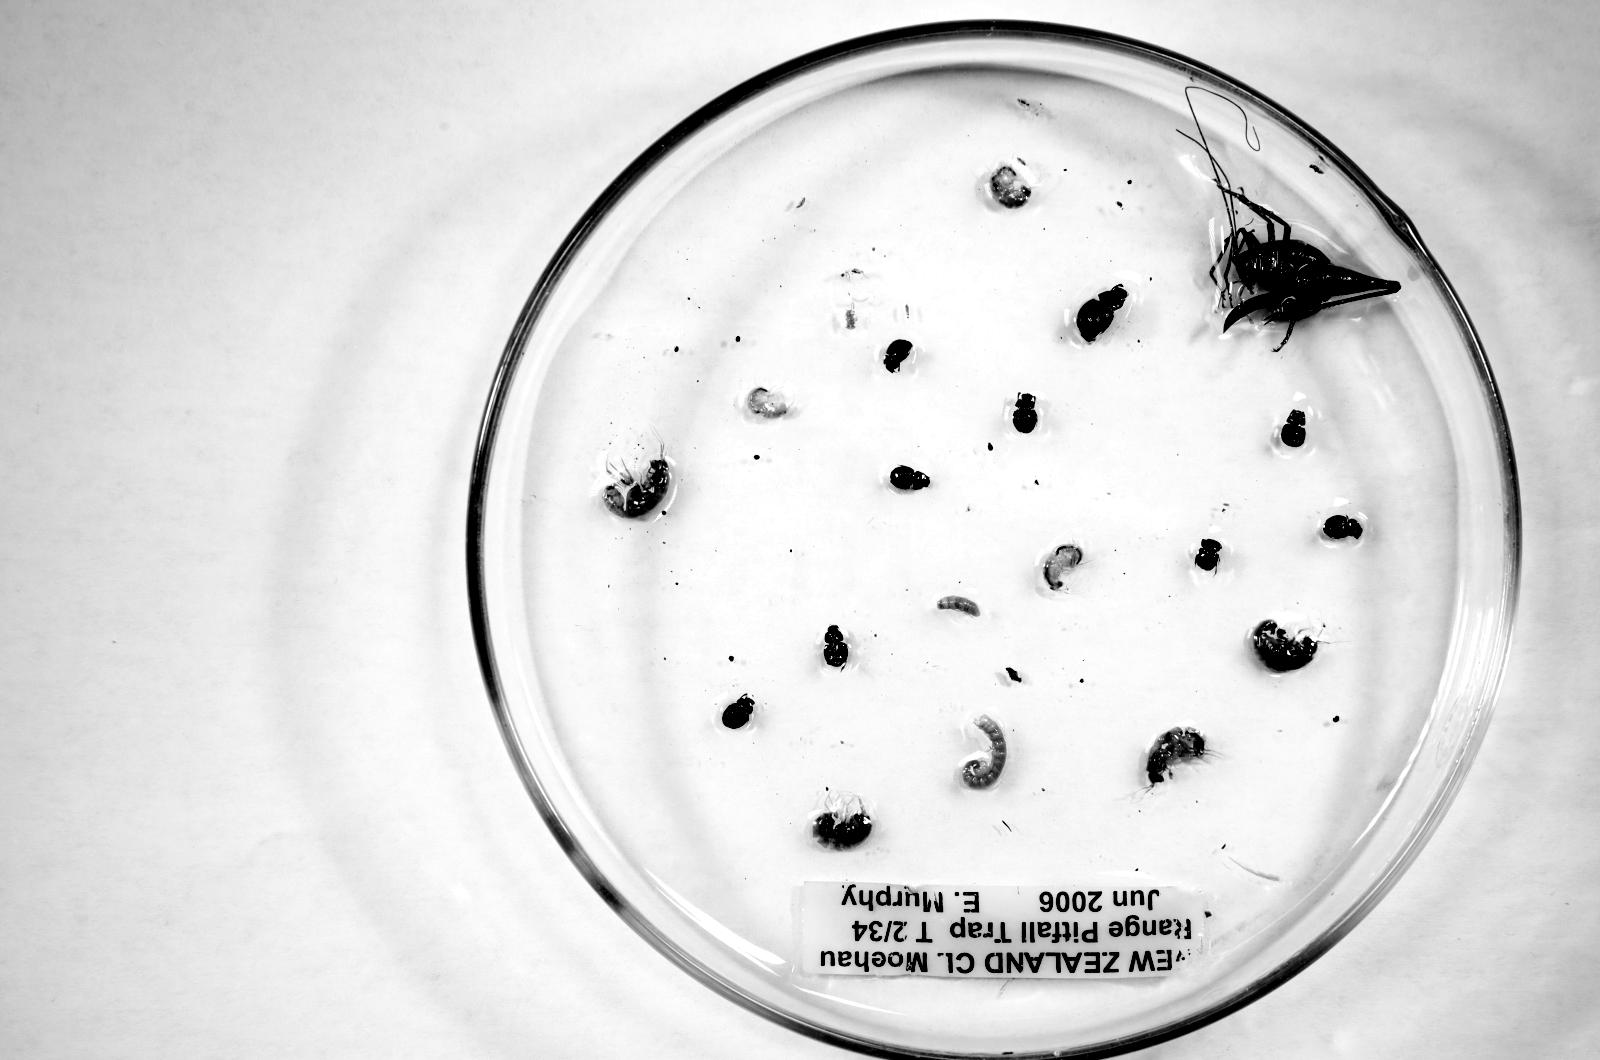amphipoda: (603, 454, 671, 518), (1250, 615, 1322, 672), (1146, 726, 1207, 787), (810, 790, 872, 849), (1042, 542, 1083, 590), (990, 164, 1031, 208), (746, 387, 791, 419)
coleoptera: (1076, 284, 1128, 343), (721, 693, 754, 729), (823, 625, 849, 670), (888, 465, 931, 491), (1012, 393, 1038, 433), (1322, 515, 1363, 539), (1281, 409, 1307, 448), (883, 338, 913, 373), (1196, 538, 1222, 570)
diplopoda: (961, 713, 1006, 789)
orthoptera: (1210, 161, 1401, 351)
